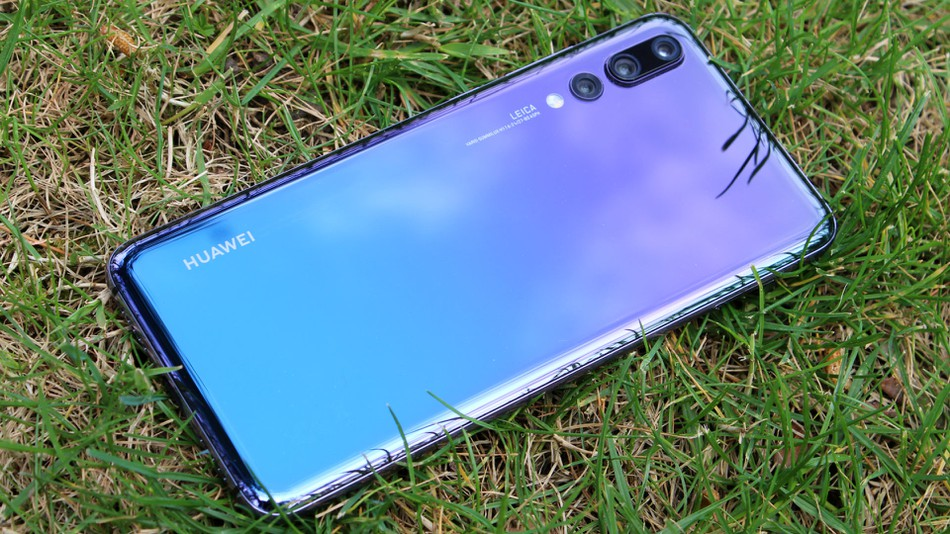phone: (108, 8, 852, 527)
